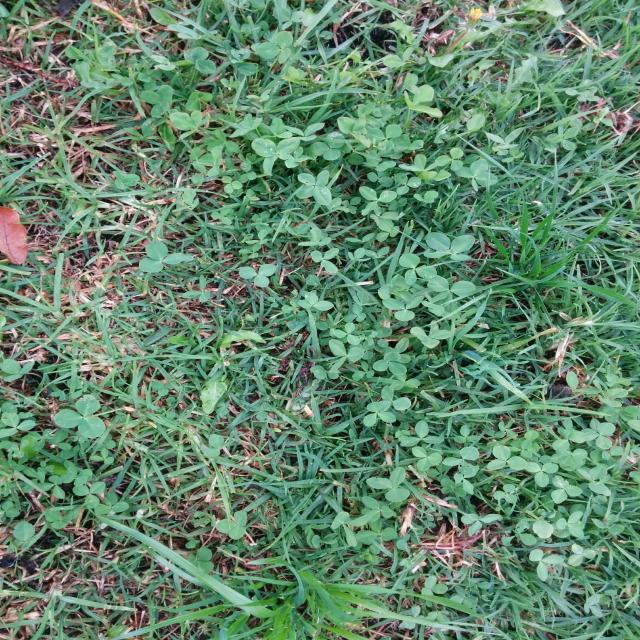Four Leaf Clover: (296, 170, 332, 206), (275, 146, 308, 168)
